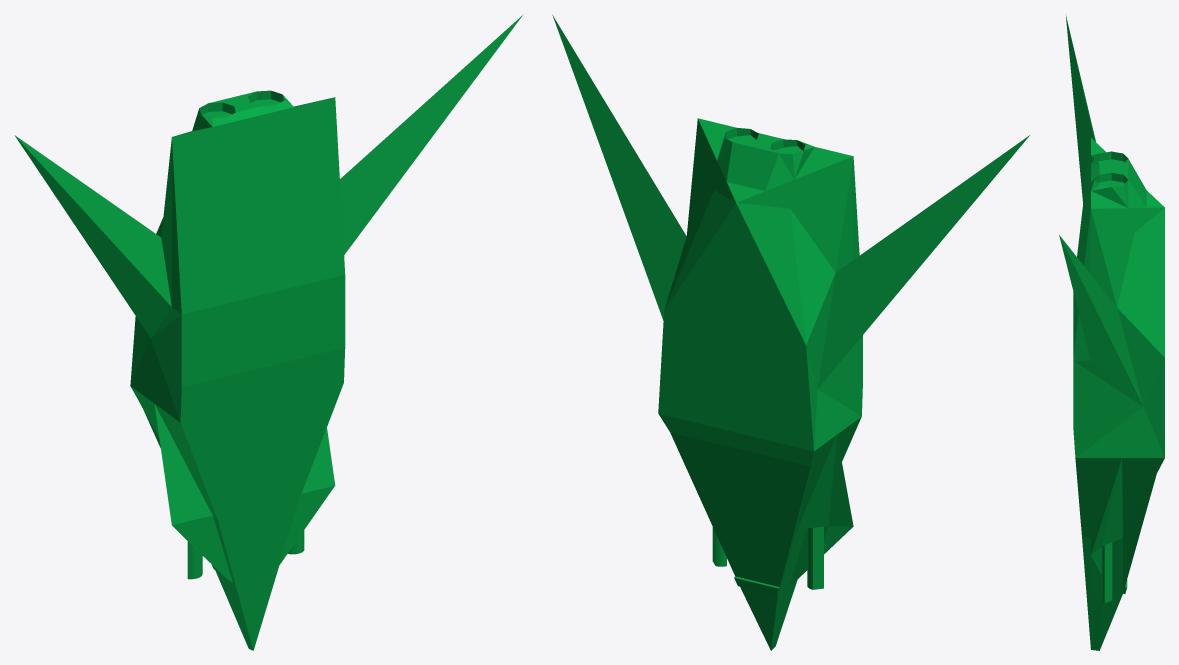
File: player_ship.dae
The picture shows the model from 3 angles, left to right: view 1: azimuth 30°, elevation 25°; view 2: azimuth 150°, elevation 25°; view 3: azimuth 270°, elevation 25°; orthographic projection. The views are drawn at different scales.
Visible parts, largest first — view 1: SketchUp; view 2: SketchUp; view 3: SketchUp.
Part boxes in pixels (bbox=[...]): SketchUp: bbox=[14, 14, 523, 650]; SketchUp: bbox=[552, 15, 1029, 650]; SketchUp: bbox=[1059, 14, 1164, 650].
Bounding box in the file's own units: 61.06 × 12.41 × 68.01.
